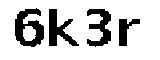3: (83, 5, 113, 51)
6: (10, 4, 44, 50)
k: (47, 5, 81, 49)
r: (117, 14, 145, 51)
